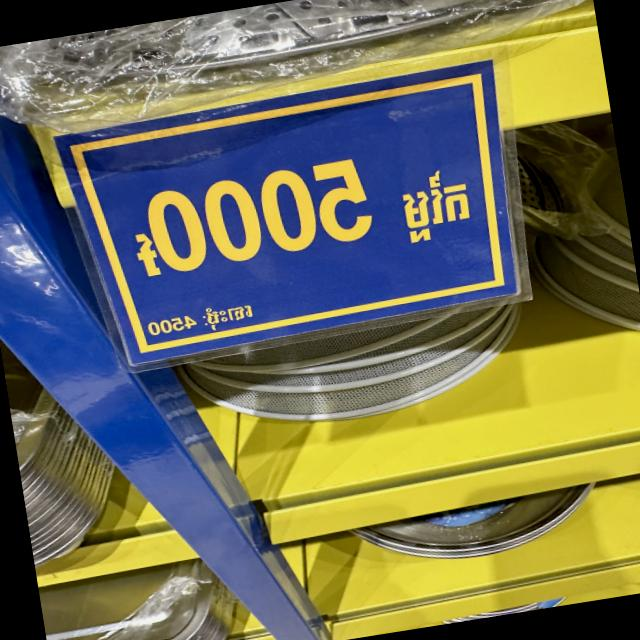66: (140, 292, 269, 342)
778: (120, 144, 390, 292)
Yolov11_80vkh: (391, 161, 483, 249)
